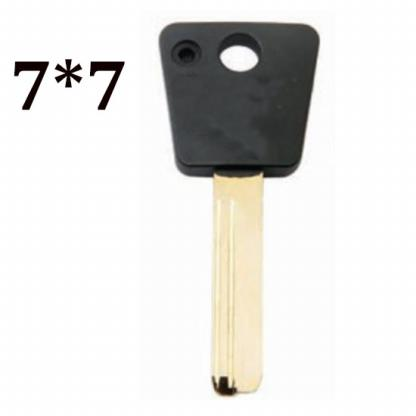key: (158, 20, 319, 396)
